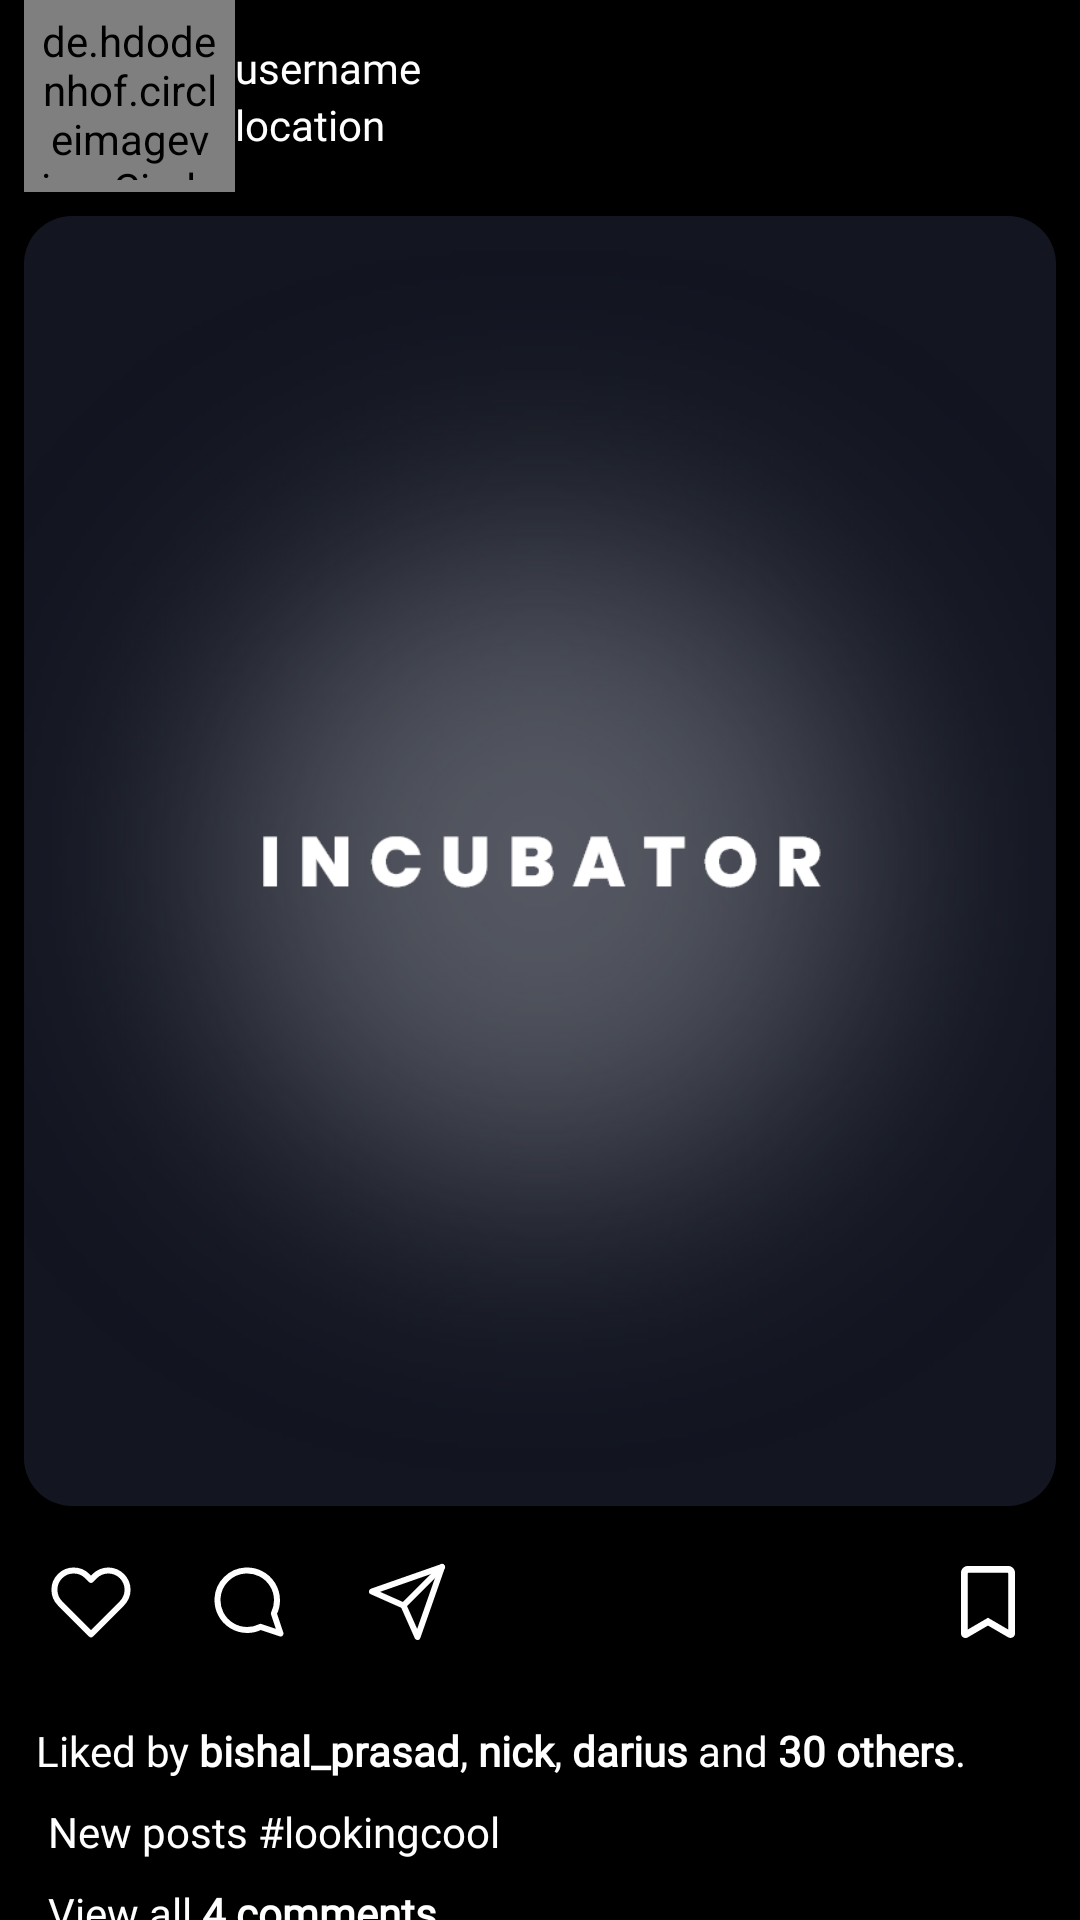

Where icons sit on this 1080px×1920px app screen, as {"left": x1, "top": y1, "right": x2, "bottom": y2}:
bookmark: {"left": 961, "top": 1566, "right": 1015, "bottom": 1638}
comment: {"left": 214, "top": 1567, "right": 284, "bottom": 1637}
Share: {"left": 369, "top": 1563, "right": 445, "bottom": 1640}
